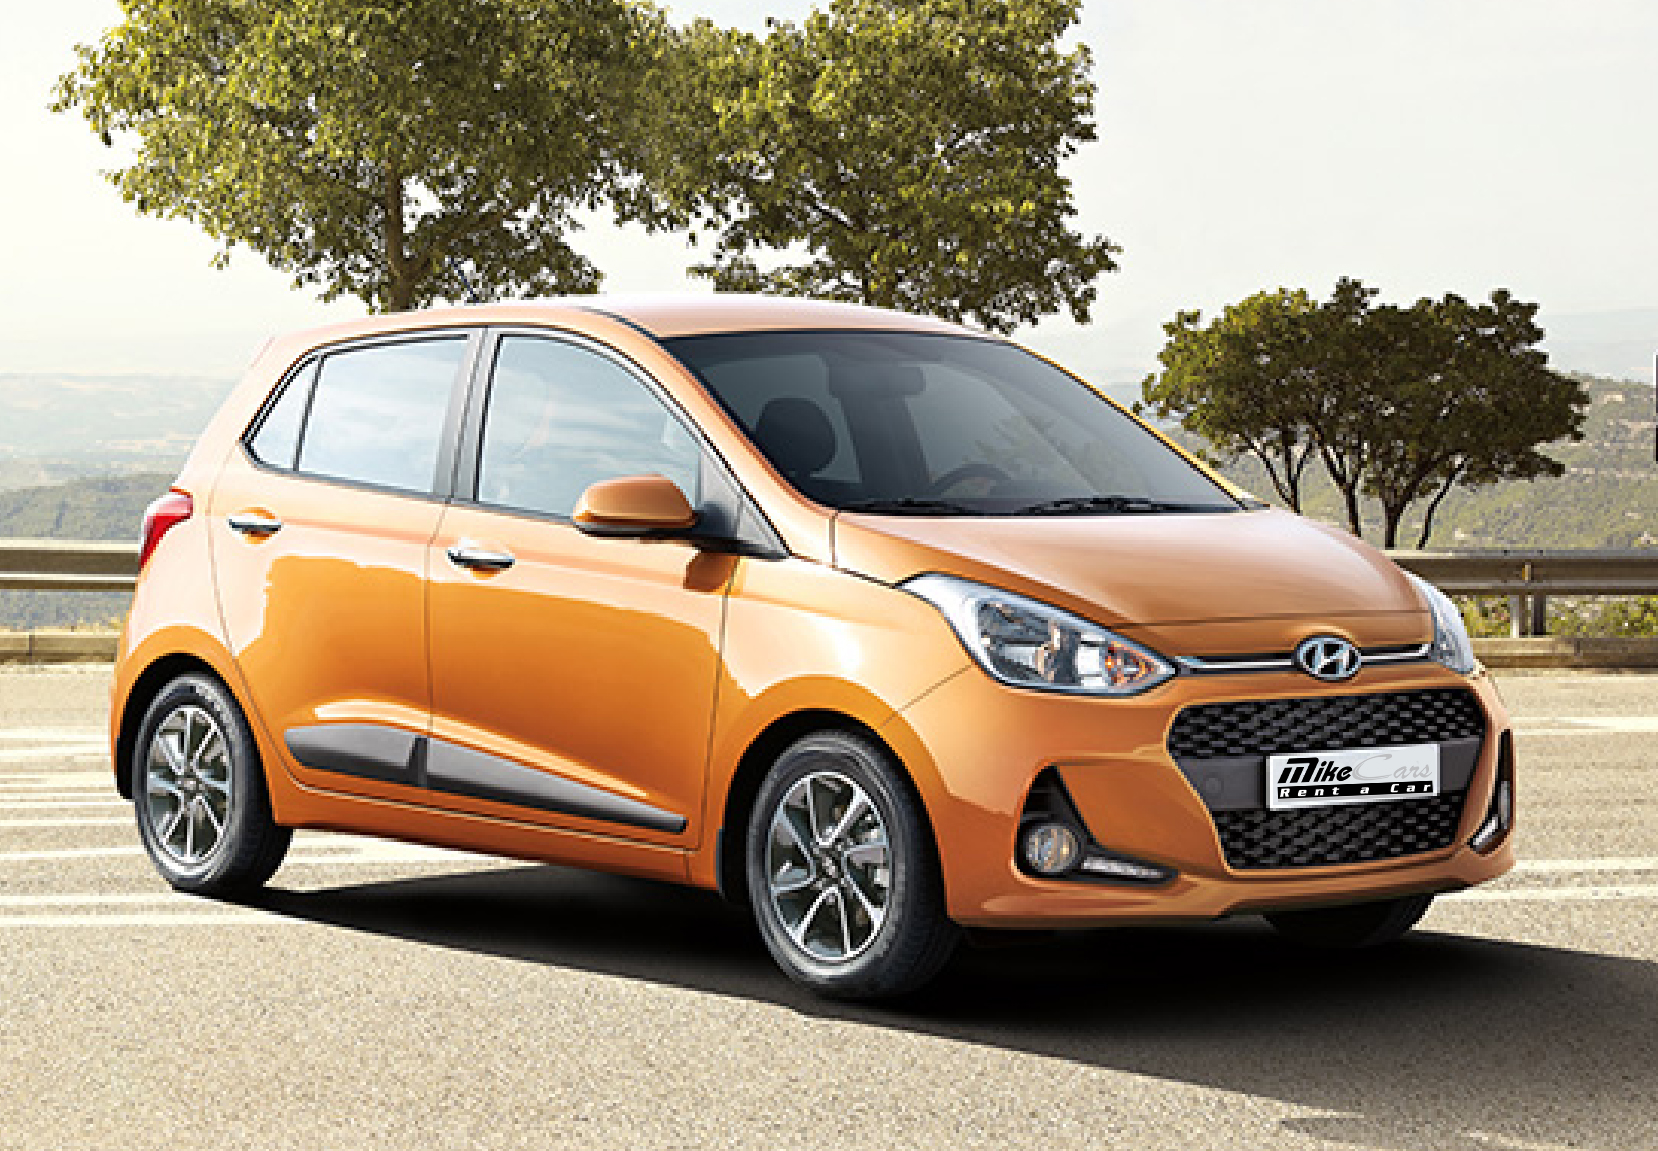i10: (97, 272, 1574, 1046)
